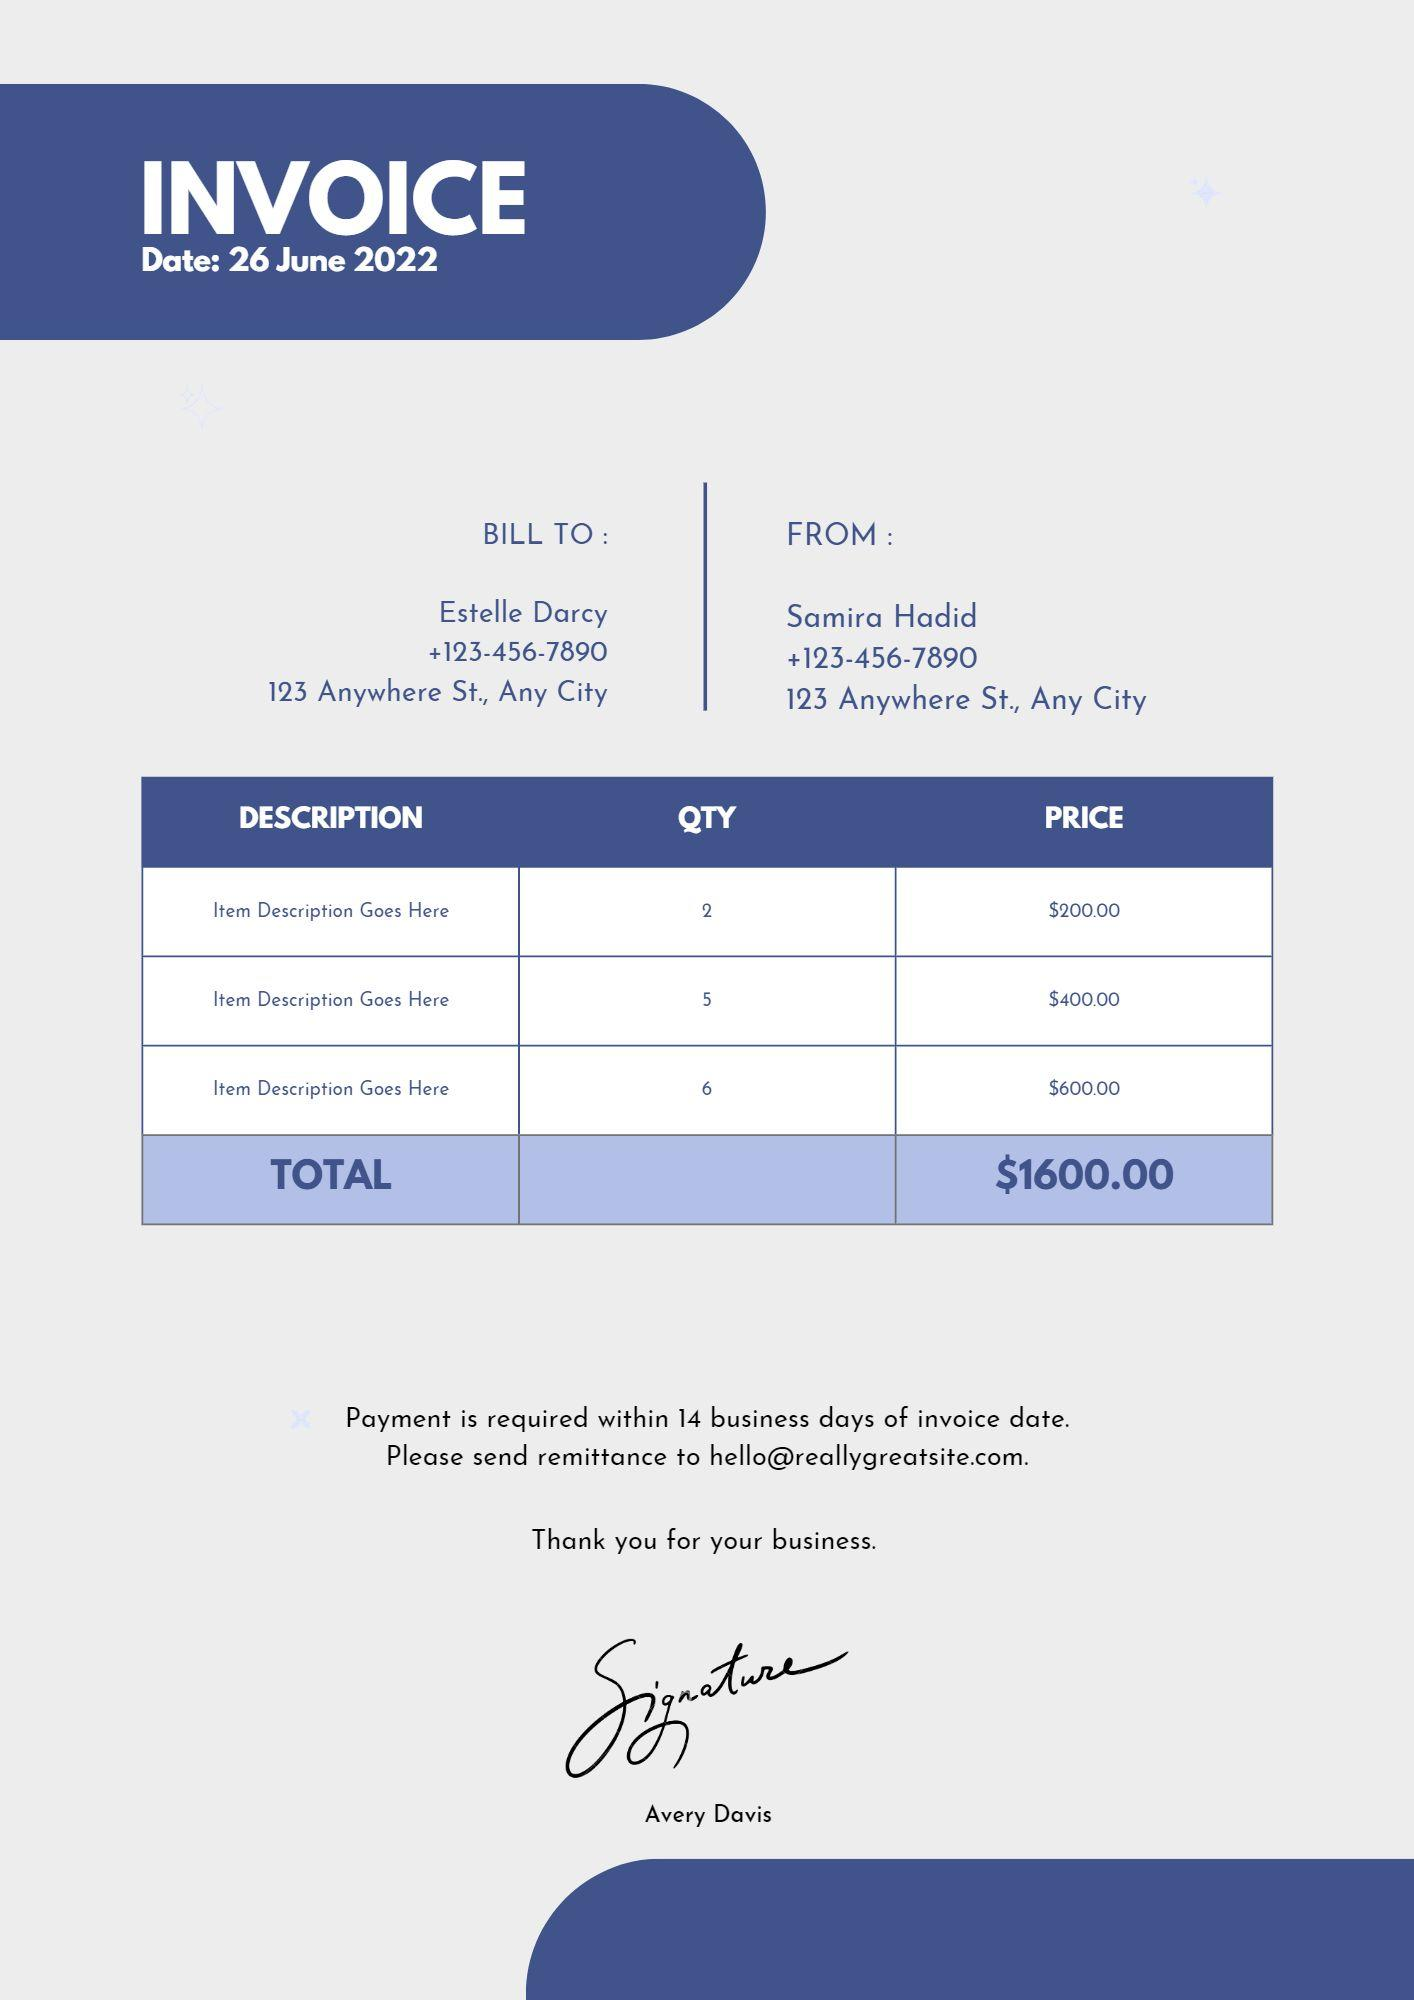ROI: (125, 771, 1282, 1238)
